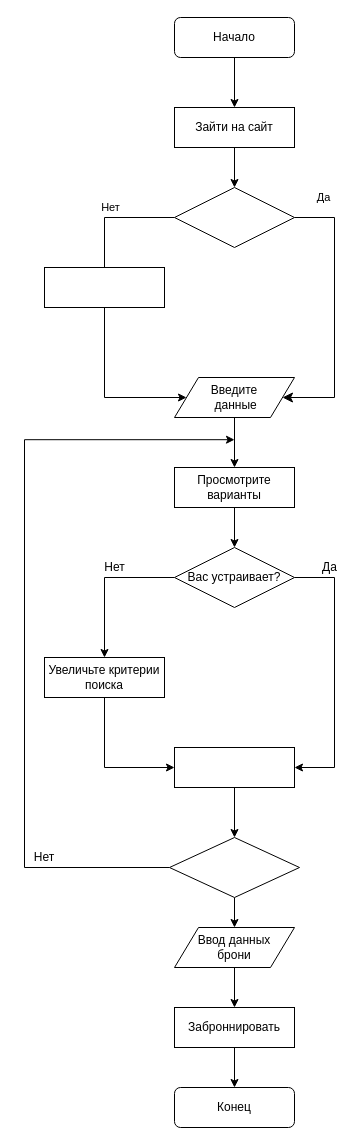
This 362x1145 diagram has some shape labels left out. Each missing label, with the box of its shape:
Вы есть на сайте?: (174, 186, 294, 248)
Выберите отель: (174, 746, 294, 788)
Зарегистрируйтесь: (44, 266, 164, 308)
Номер вам подходит?: (168, 836, 300, 898)
